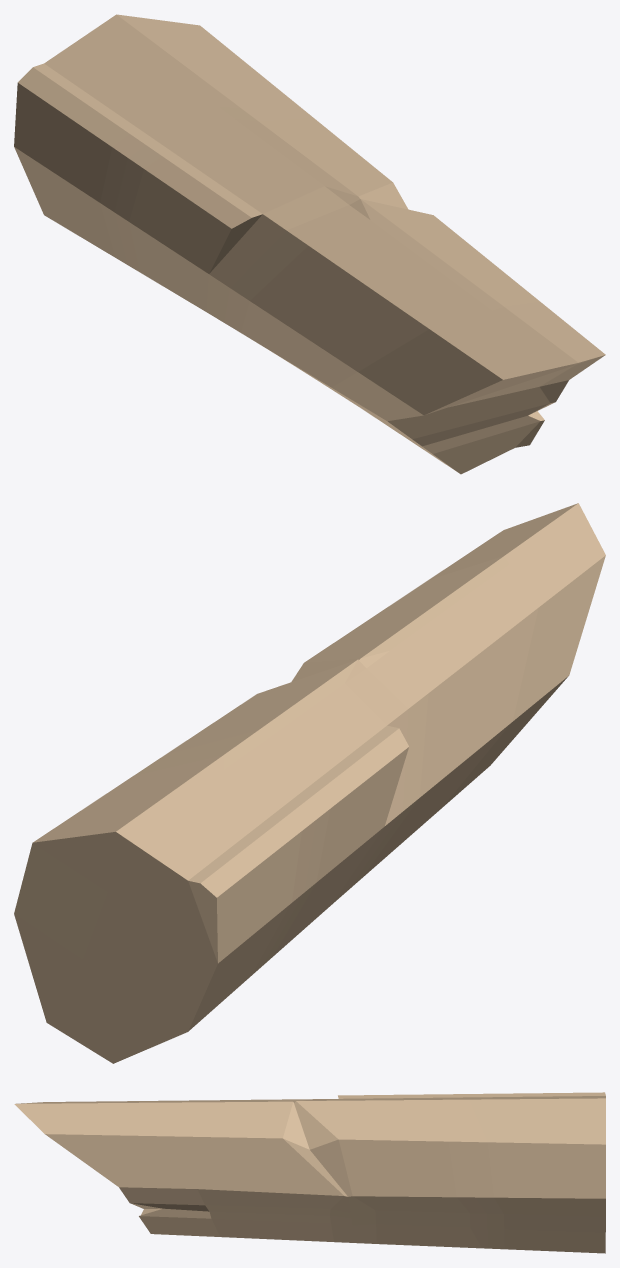
The model's file is Piedras4.fbx.
3 renders of one model, top to bottom at view 1: azimuth 30°, elevation 25°; view 2: azimuth 150°, elevation 25°; view 3: azimuth 270°, elevation 25°, orthographic. The views are drawn at different scales.
Visible parts, largest first — view 1: Cylinder.003; view 2: Cylinder.003; view 3: Cylinder.003.
Boxes of the visible parts, x1,y1,x2,y2 form: Cylinder.003: (14, 14, 605, 474); Cylinder.003: (14, 503, 605, 1063); Cylinder.003: (14, 1092, 605, 1253).
Size of the model in its own units: 240 by 262 by 942.
